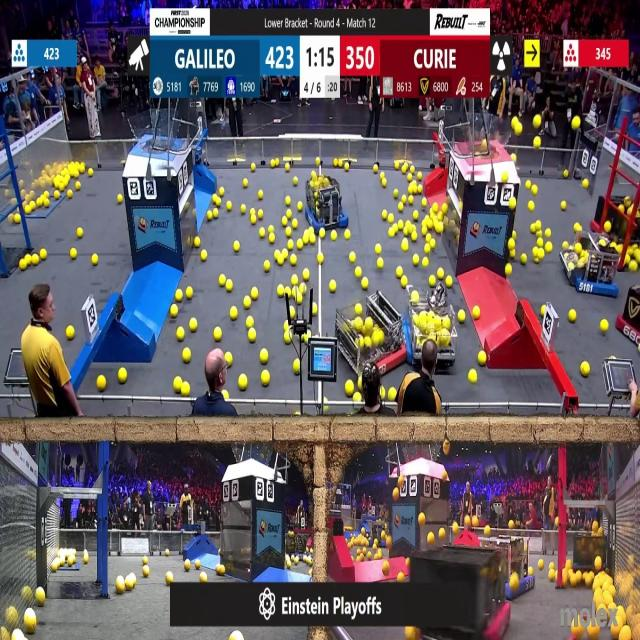ball_airborne: (406, 626, 419, 640), (444, 442, 452, 457), (515, 122, 523, 136), (533, 114, 541, 127), (572, 116, 580, 128), (533, 137, 540, 148), (501, 172, 507, 184), (392, 489, 398, 500), (443, 469, 448, 478), (513, 153, 517, 160)
ball_ground: (25, 612, 38, 635), (36, 588, 46, 606), (126, 574, 137, 590), (588, 626, 599, 640), (119, 578, 128, 594), (117, 369, 126, 384), (98, 376, 106, 392), (239, 376, 248, 390), (569, 573, 578, 587), (346, 381, 354, 396), (479, 352, 487, 366), (182, 349, 190, 363), (67, 325, 75, 339), (263, 372, 271, 386), (213, 327, 221, 341), (188, 318, 196, 332), (224, 352, 232, 366), (582, 362, 590, 376), (412, 290, 420, 304), (174, 378, 182, 392), (248, 331, 256, 344), (181, 383, 189, 396), (177, 327, 185, 340), (471, 307, 479, 320), (468, 371, 476, 384), (386, 386, 394, 399), (262, 350, 269, 364), (595, 558, 602, 572), (328, 280, 336, 292), (231, 308, 239, 320), (600, 320, 608, 332), (244, 296, 252, 308), (569, 310, 576, 323), (175, 289, 182, 302), (562, 573, 569, 586), (629, 263, 638, 273), (246, 317, 254, 328), (18, 261, 26, 272), (217, 564, 225, 575), (290, 275, 298, 286), (444, 317, 452, 328), (185, 286, 192, 298), (251, 288, 258, 300), (167, 571, 174, 583), (70, 248, 77, 260), (219, 275, 226, 287), (225, 280, 232, 292), (355, 304, 362, 316), (401, 240, 408, 252), (427, 532, 434, 544), (419, 514, 426, 526), (452, 522, 459, 534), (470, 517, 477, 529), (434, 222, 442, 232), (427, 219, 433, 232), (458, 311, 465, 322), (355, 268, 362, 279), (201, 250, 208, 261), (349, 252, 356, 263), (32, 254, 39, 265), (550, 570, 557, 581), (172, 306, 178, 318), (447, 276, 453, 288), (289, 308, 295, 320), (293, 360, 299, 372), (396, 572, 404, 581), (511, 199, 517, 211), (382, 561, 388, 573), (201, 572, 208, 582), (284, 334, 291, 344), (193, 238, 200, 248), (547, 241, 554, 251), (413, 254, 420, 264), (422, 256, 429, 266), (317, 254, 324, 264), (76, 229, 83, 239), (507, 240, 514, 250), (282, 249, 289, 259), (438, 270, 445, 280), (537, 248, 544, 258), (440, 528, 447, 538), (442, 204, 449, 214), (33, 200, 40, 210), (93, 253, 99, 264), (290, 254, 296, 265), (362, 278, 368, 289), (505, 266, 511, 277), (184, 560, 190, 571), (40, 249, 46, 260), (429, 276, 435, 287), (376, 244, 382, 255), (378, 257, 384, 268), (396, 268, 402, 279), (278, 285, 284, 296), (464, 517, 470, 528), (524, 180, 532, 188), (414, 211, 421, 220), (291, 286, 298, 295), (235, 242, 241, 252), (194, 560, 200, 570), (400, 278, 406, 288), (304, 271, 310, 281), (412, 232, 418, 242), (345, 231, 351, 241), (143, 566, 149, 576), (222, 390, 228, 400), (282, 216, 288, 226), (319, 230, 325, 240), (259, 230, 265, 240), (574, 222, 580, 232), (296, 293, 302, 303), (243, 178, 249, 188), (528, 202, 534, 212), (119, 196, 125, 206), (296, 202, 302, 212), (296, 240, 302, 250), (388, 212, 394, 222), (386, 229, 392, 239), (530, 222, 536, 232), (286, 229, 292, 239), (278, 256, 284, 266), (270, 234, 276, 244), (409, 196, 415, 206), (532, 247, 538, 257), (410, 184, 416, 194), (485, 526, 491, 536), (207, 210, 213, 220), (397, 220, 403, 230), (382, 178, 388, 188), (382, 210, 388, 220), (421, 200, 428, 208), (285, 198, 292, 206), (331, 160, 338, 168), (11, 633, 19, 640), (266, 262, 271, 273), (313, 305, 318, 316), (544, 230, 550, 239), (257, 210, 263, 219), (563, 242, 569, 251), (288, 241, 294, 250), (424, 245, 430, 254), (291, 219, 297, 228), (13, 214, 19, 223), (218, 187, 224, 196), (354, 392, 360, 401), (213, 210, 219, 219), (55, 189, 61, 198), (286, 210, 292, 219), (507, 521, 513, 530), (310, 236, 316, 245), (540, 307, 546, 316), (402, 229, 408, 238), (304, 237, 310, 246), (394, 163, 400, 172), (284, 164, 290, 173), (432, 204, 438, 213), (298, 284, 304, 293), (331, 232, 336, 242), (522, 254, 527, 264), (538, 560, 543, 570), (215, 198, 220, 208), (566, 560, 571, 570), (536, 240, 542, 248), (43, 200, 49, 208), (250, 208, 256, 216), (269, 224, 275, 232), (535, 221, 541, 229), (422, 226, 428, 234), (511, 250, 517, 258), (26, 206, 32, 214), (400, 166, 406, 174), (344, 164, 350, 172), (400, 193, 406, 201), (536, 231, 542, 239), (226, 202, 231, 211), (284, 321, 289, 330), (68, 189, 73, 198), (251, 215, 256, 224), (564, 170, 569, 179), (393, 188, 398, 197), (372, 164, 377, 173), (532, 185, 537, 194), (584, 179, 589, 188), (251, 164, 256, 173), (79, 165, 84, 174), (73, 171, 79, 178), (561, 202, 566, 210), (304, 336, 309, 344), (418, 184, 423, 192), (408, 174, 413, 182), (143, 557, 148, 565), (430, 241, 435, 249), (316, 159, 321, 167), (398, 204, 403, 212), (83, 556, 88, 564), (392, 224, 397, 232), (438, 212, 443, 220), (258, 189, 262, 198), (293, 179, 297, 188), (306, 227, 312, 233), (426, 235, 431, 242), (164, 551, 169, 558), (76, 182, 80, 190), (242, 206, 246, 214), (90, 169, 94, 177), (418, 173, 422, 181), (556, 518, 560, 526), (326, 408, 330, 416), (276, 160, 280, 168), (534, 256, 539, 262), (307, 330, 311, 337), (513, 233, 517, 240), (309, 569, 313, 576), (550, 562, 554, 568)
goal: (460, 117, 513, 158), (129, 116, 186, 152)
robot_blue: (407, 288, 457, 374), (559, 232, 620, 300), (305, 174, 347, 231), (283, 529, 307, 559)
robot_red: (416, 538, 512, 638), (336, 294, 404, 376), (591, 194, 639, 246), (618, 286, 640, 346)
